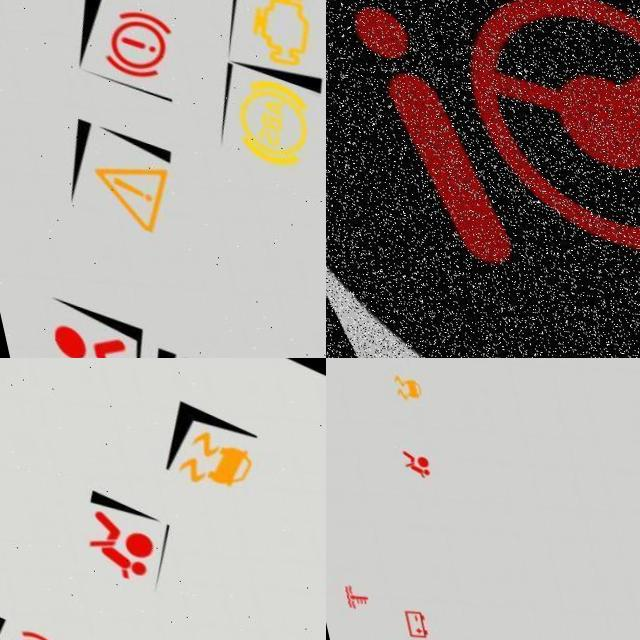Electronic Power Steering: (326, 0, 640, 310)
